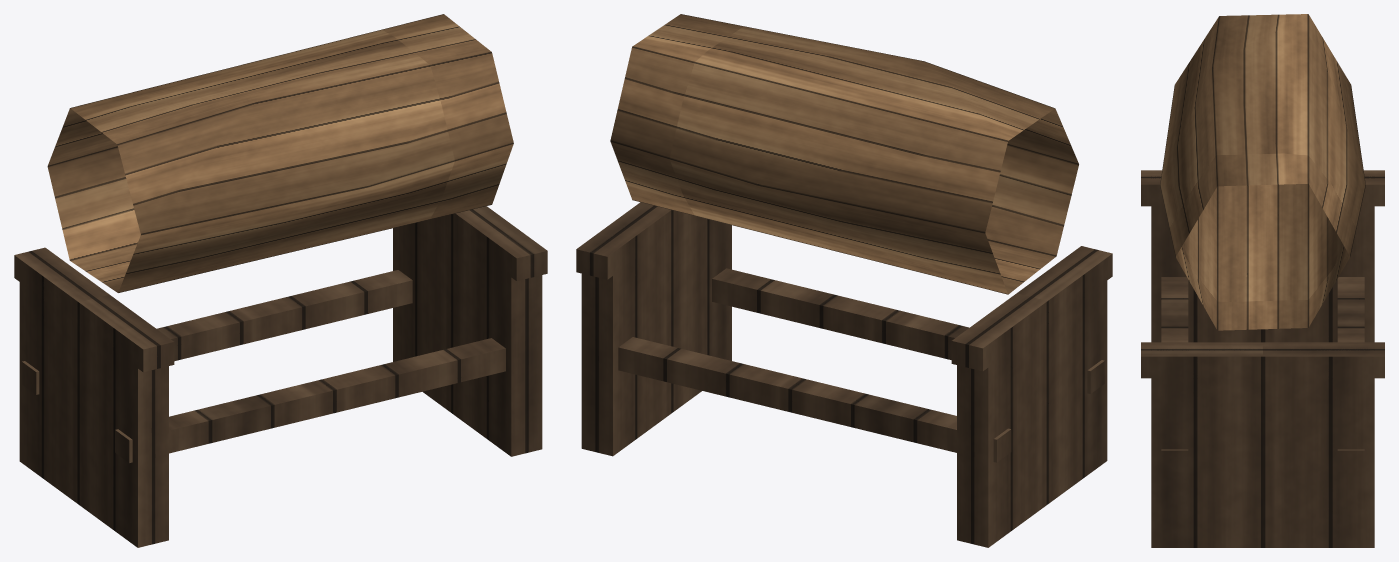
File: Barrel_Holder_LOD2.gltf
3 renders of one model, left to right at view 1: azimuth 30°, elevation 25°; view 2: azimuth 150°, elevation 25°; view 3: azimuth 270°, elevation 25°, orthographic. The views are drawn at different scales.
Parts seen in each view (by area): view 1: Barrel_Holder_LOD2; view 2: Barrel_Holder_LOD2; view 3: Barrel_Holder_LOD2.
Part boxes in pixels (x1=…): Barrel_Holder_LOD2: x1=14, y1=14, x2=547, y2=547; Barrel_Holder_LOD2: x1=576, y1=14, x2=1112, y2=547; Barrel_Holder_LOD2: x1=1141, y1=14, x2=1384, y2=547.
Size of the model in its own units: 1.36 by 1.22 by 0.74.
Materials: 2 (2 with a texture image).
